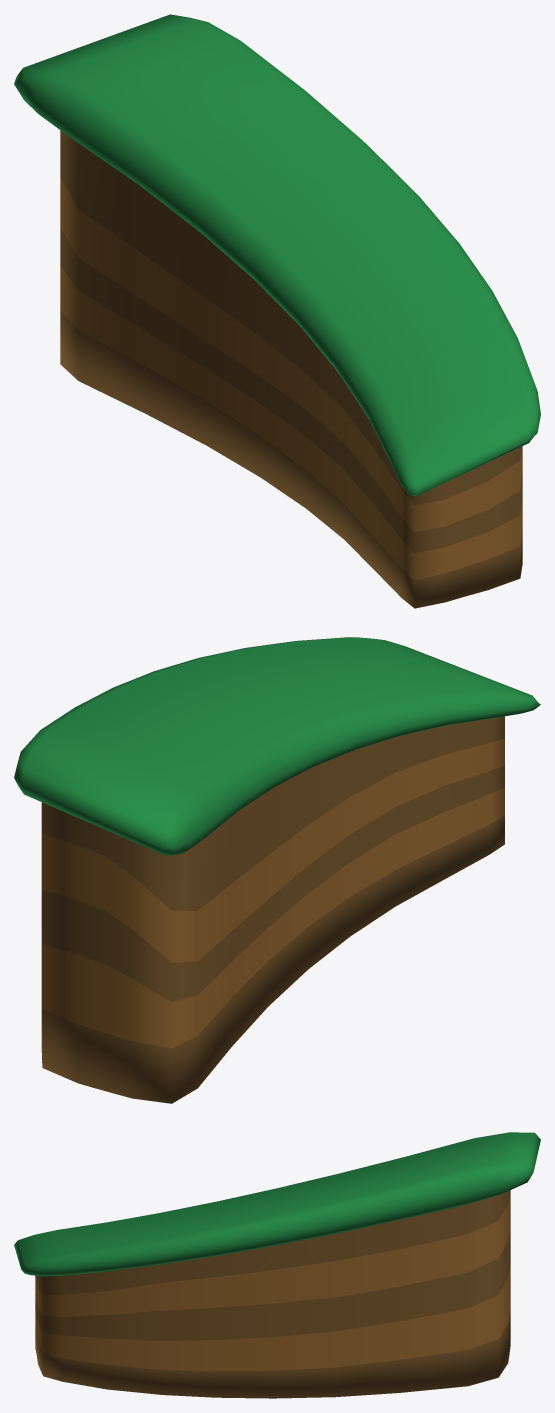
The model's file is Plateforme_Rectangle_montante.fbx.
The picture shows the model from 3 angles, top to bottom: view 1: azimuth 30°, elevation 25°; view 2: azimuth 150°, elevation 25°; view 3: azimuth 270°, elevation 25°; orthographic projection. The views are drawn at different scales.
Parts seen in each view (by area): view 1: Cube.025; view 2: Cube.025; view 3: Cube.025.
Part boxes in pixels (x1,y1,x2,y2): Cube.025: [14, 14, 540, 608]; Cube.025: [14, 637, 540, 1103]; Cube.025: [14, 1132, 540, 1398].
Bounding box in the file's own units: 659 × 912 × 1998.
